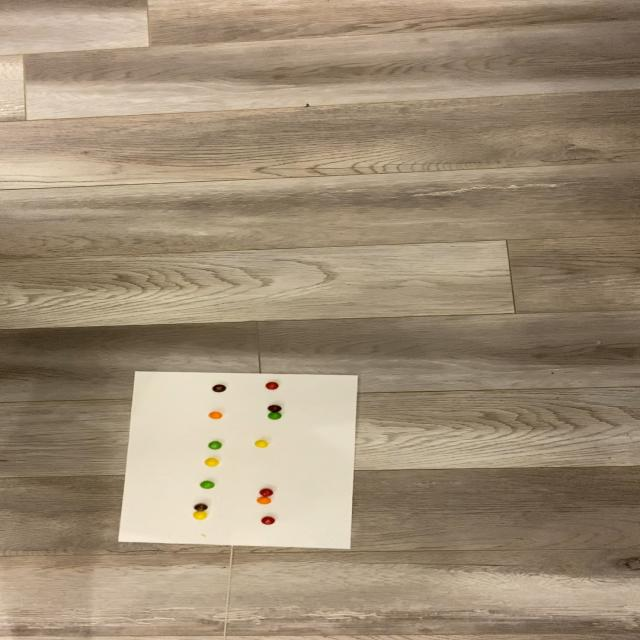smartie: (204, 458, 220, 468), (267, 404, 282, 414), (194, 502, 209, 512), (257, 496, 272, 506), (253, 439, 269, 448), (208, 412, 223, 421), (267, 412, 282, 421), (193, 511, 208, 520), (260, 517, 275, 526), (264, 382, 278, 391), (209, 441, 223, 450), (201, 481, 215, 490), (259, 488, 273, 497), (212, 384, 226, 392)
